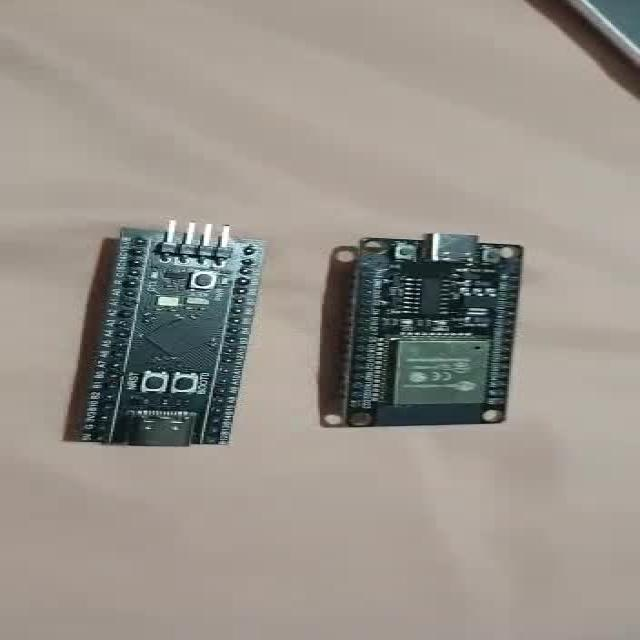ESP32: (346, 234, 523, 427)
STM32: (81, 222, 264, 446)
